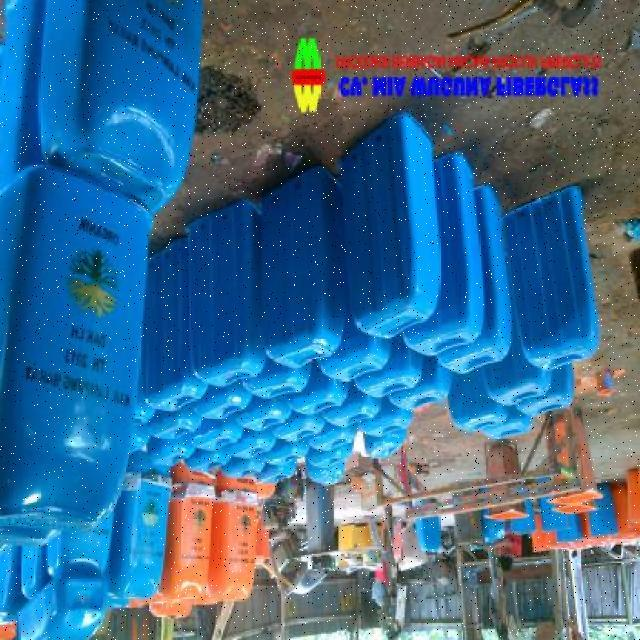garbage container: (2, 161, 165, 527), (30, 2, 204, 208), (340, 107, 445, 340), (494, 184, 610, 373)
